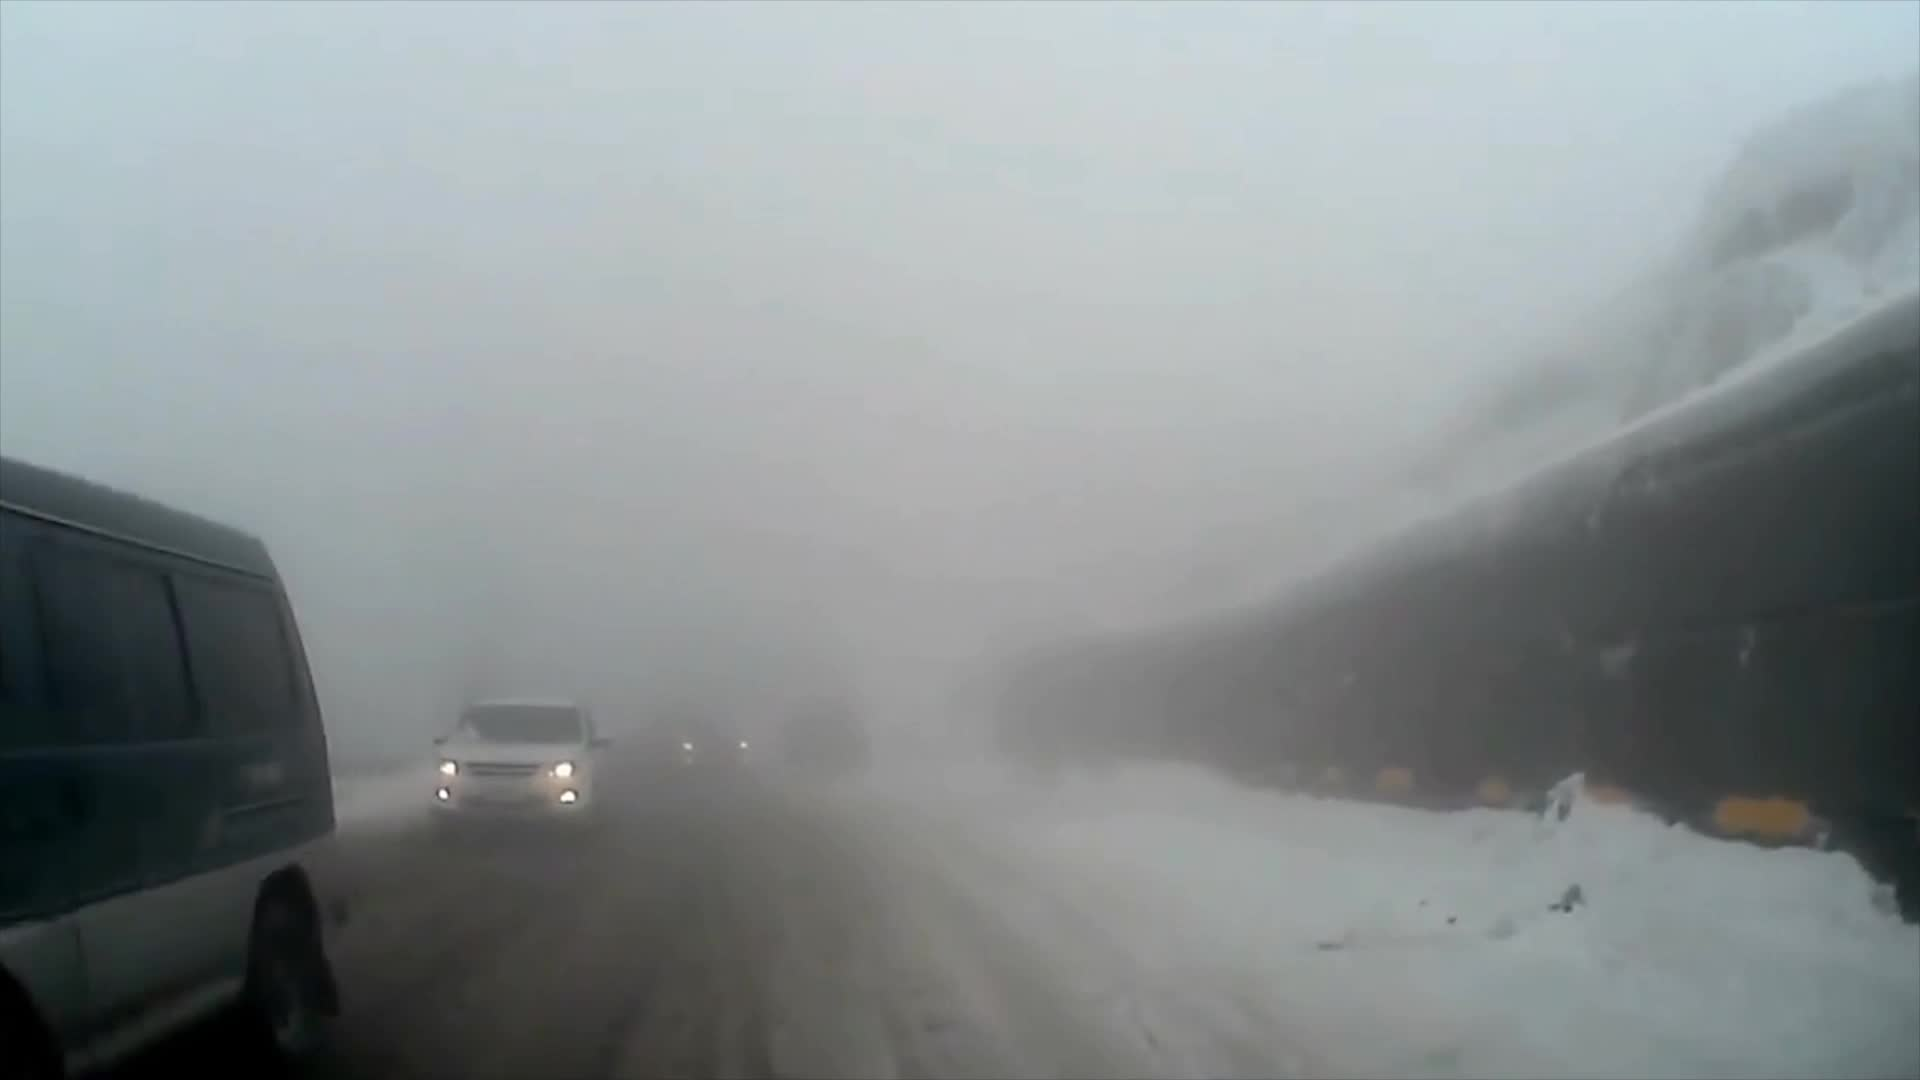vehicle: (0, 454, 348, 1080), (426, 695, 618, 844)
